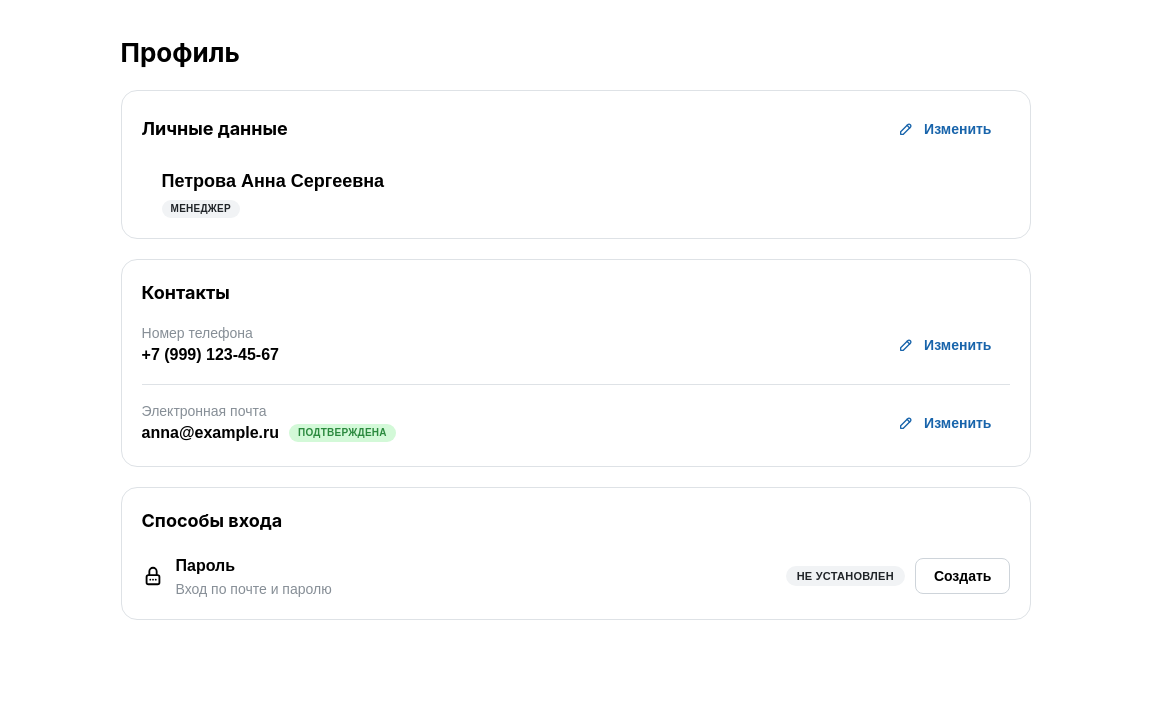
Test: редактирует номер только после явного перехода и сохраняет нормализованное значение
Click the button "Изменить" in the row of "+7 (999) 123-45-67": (948, 345) [885, 327, 1010, 363]
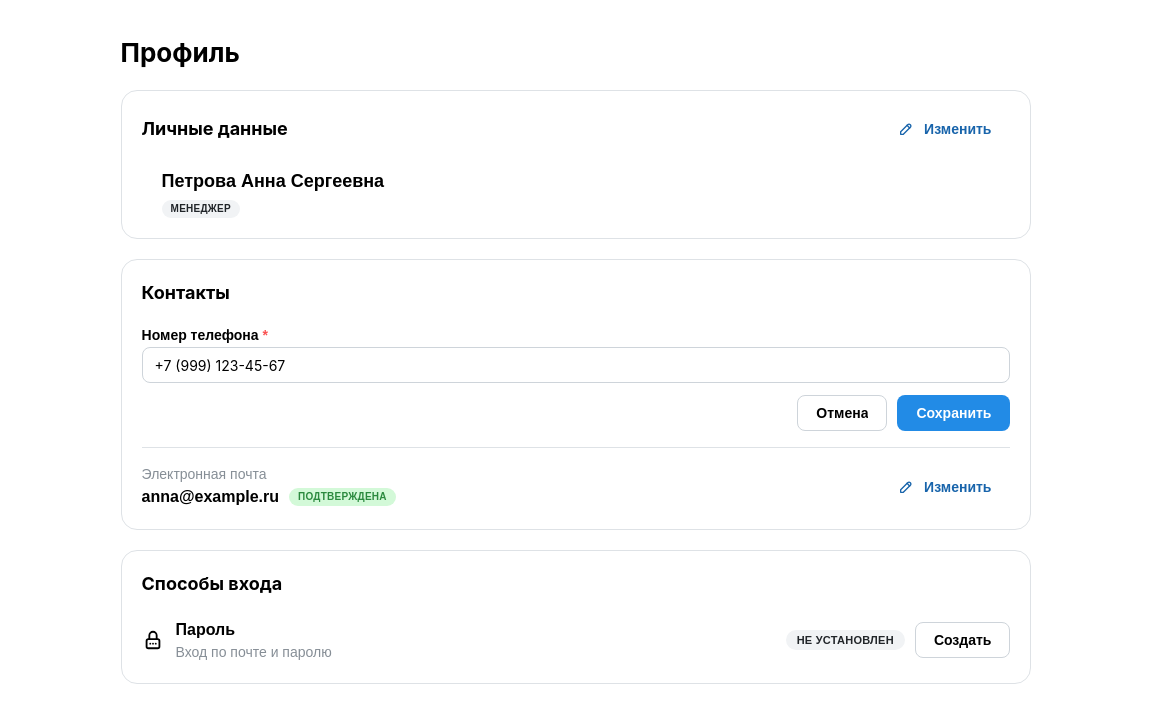
Replace the text in the field labelled "Номер телефона" with "+7 (999) 123-45-68": (576, 365) [142, 347, 1010, 383]
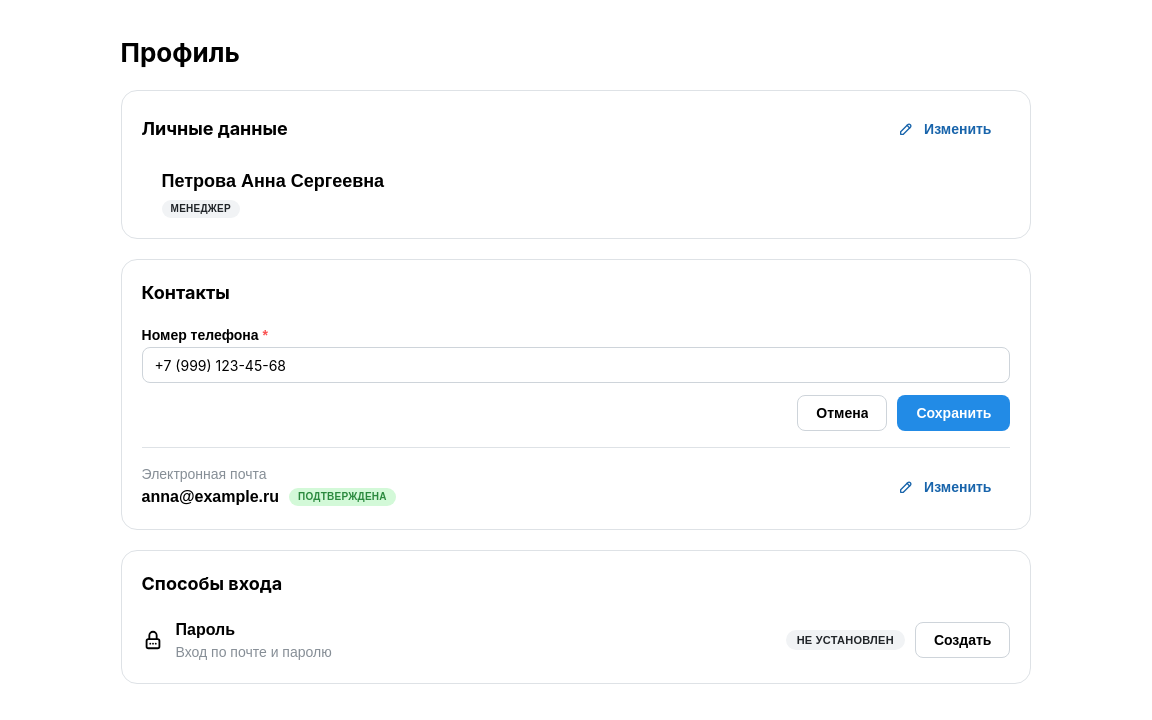
Click the button "Сохранить": (954, 413) [898, 395, 1010, 431]
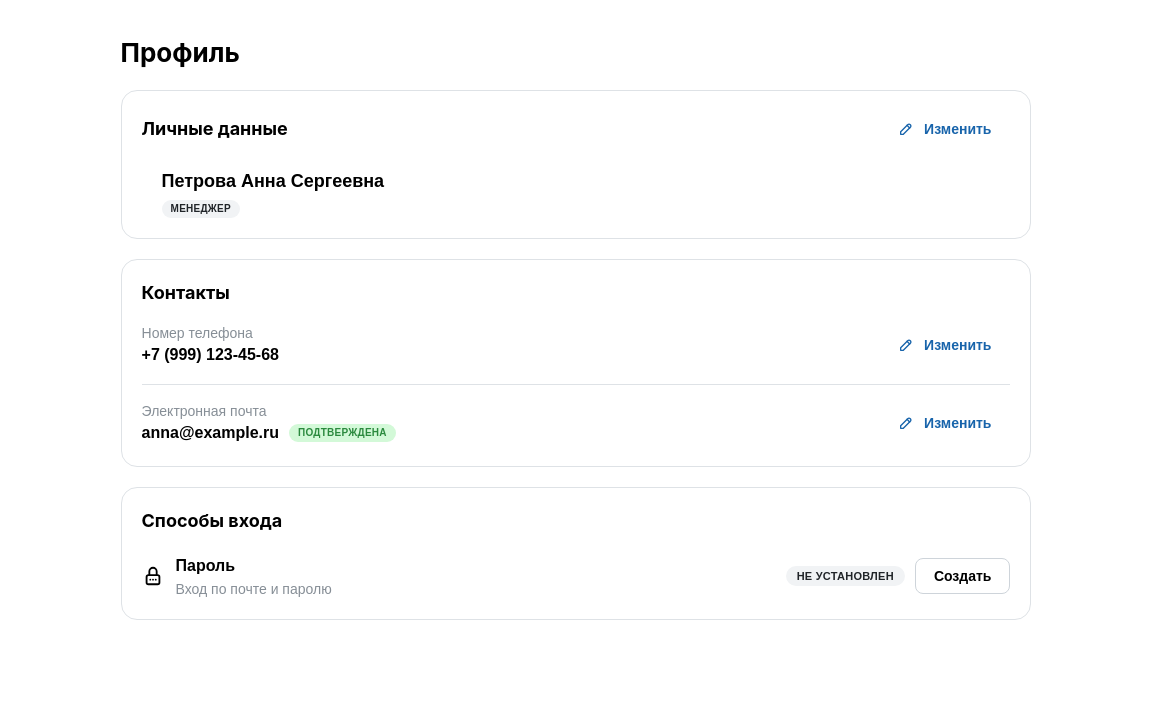
Check: the text "+7 (999) 123-45-68" is shown, box [142, 343, 279, 368]
